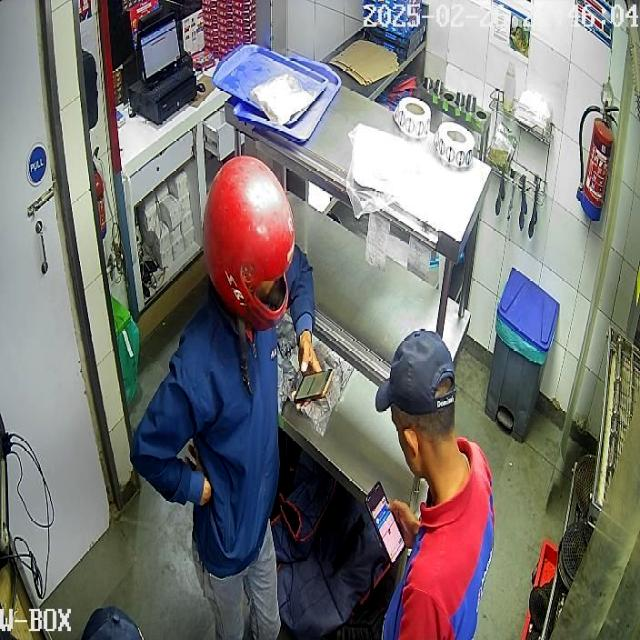helmet: (201, 154, 296, 333)
no_helmet: (375, 328, 464, 490)
